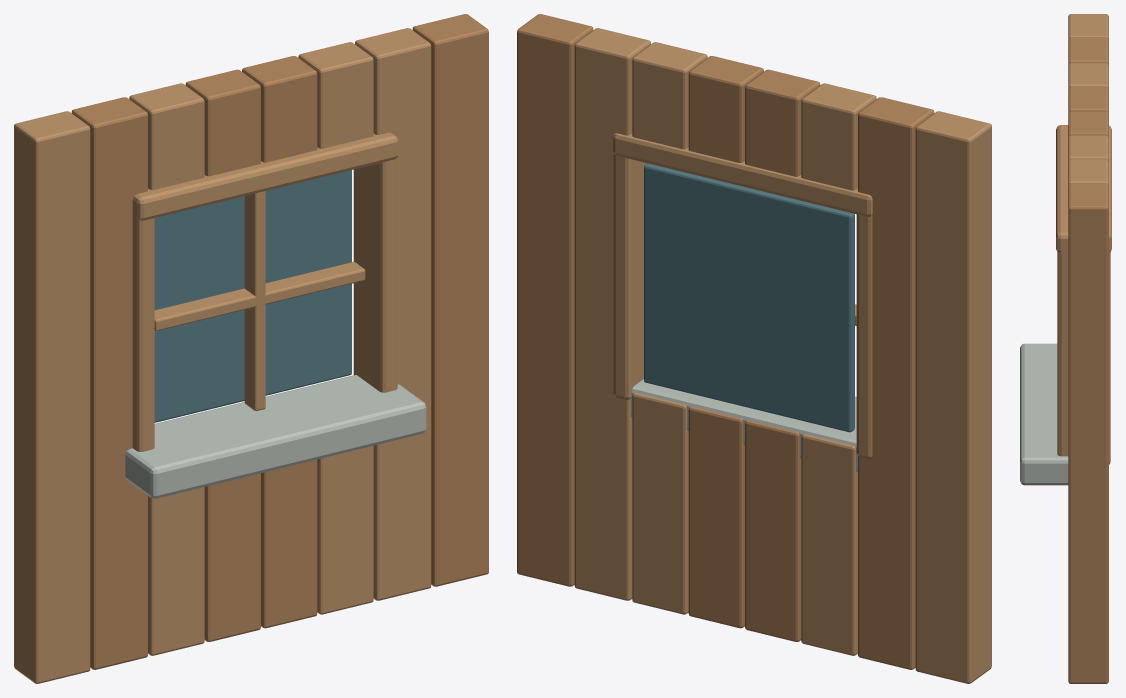
The model's file is wall_window_timber_2m.glb.
3 renders of one model, left to right at view 1: azimuth 30°, elevation 25°; view 2: azimuth 150°, elevation 25°; view 3: azimuth 270°, elevation 25°, orthographic. The views are drawn at different scales.
Visible parts, largest first — view 1: wall_window_timber_2m; view 2: wall_window_timber_2m; view 3: wall_window_timber_2m.
Boxes of the visible parts, left/top/right/bottom form: wall_window_timber_2m: left=14, top=14, right=488, bottom=683; wall_window_timber_2m: left=517, top=14, right=991, bottom=683; wall_window_timber_2m: left=1020, top=14, right=1111, bottom=683.
Bounding box in the file's own units: 1.81 × 2.08 × 0.362.
